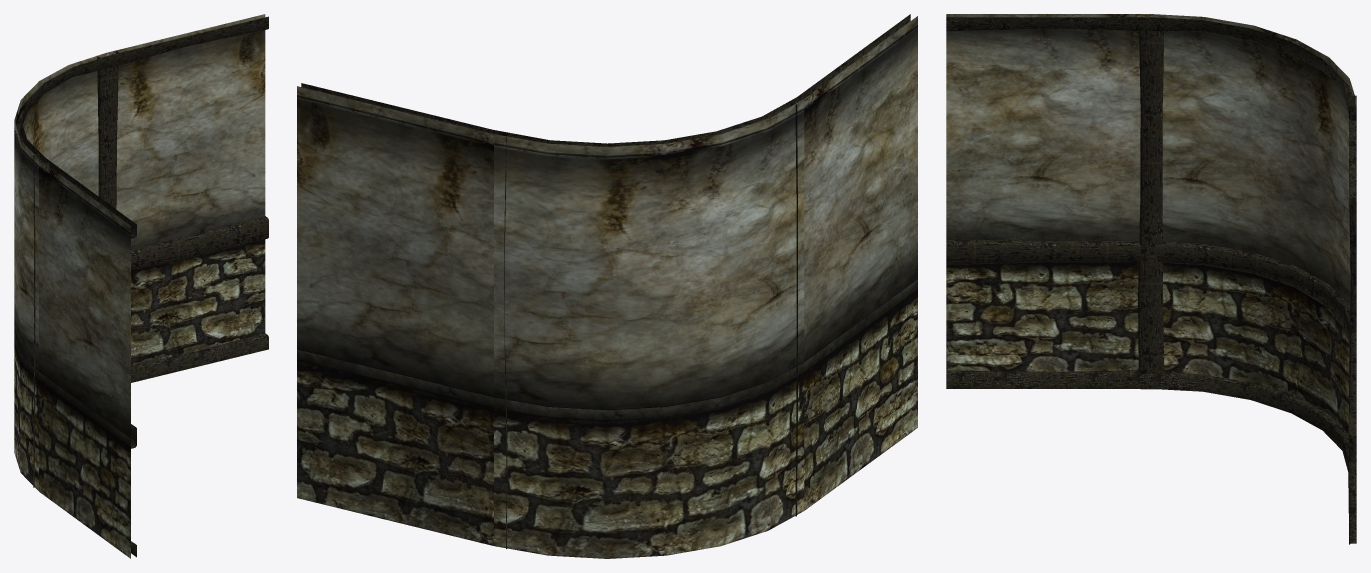
Rendered from cellar_wall_01_corner.DAE.
3 renders of one model, left to right at view 1: azimuth 30°, elevation 25°; view 2: azimuth 150°, elevation 25°; view 3: azimuth 270°, elevation 25°, orthographic. The views are drawn at different scales.
Parts seen in each view (by area): view 1: Box040, Box045; view 2: Box040, Box045; view 3: Box040, Box045.
Boxes of the visible parts, x1,y1,x2,y2 form: Box040: (14, 14, 265, 558); Box045: (14, 16, 268, 557); Box040: (297, 16, 917, 558); Box045: (301, 14, 910, 548); Box040: (946, 14, 1356, 434); Box045: (946, 17, 1356, 544).
Size of the model in its own units: 4 by 4 by 4.
